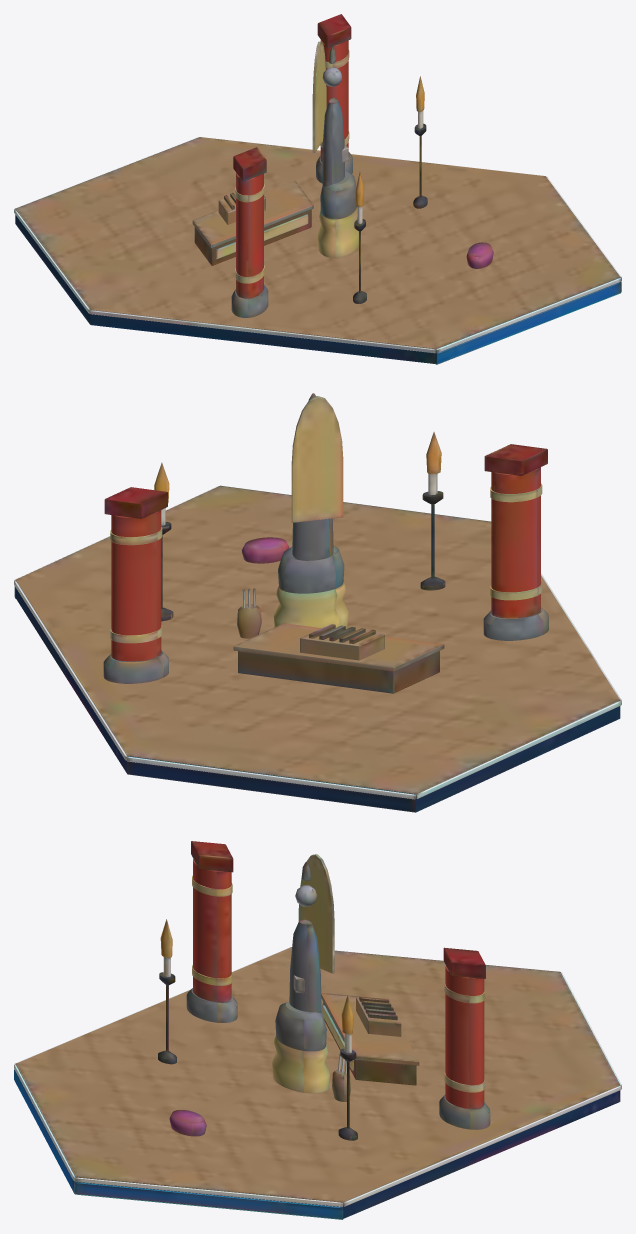
The model's file is field_cm24_01.glb.
The picture shows the model from 3 angles, top to bottom: view 1: azimuth 30°, elevation 25°; view 2: azimuth 150°, elevation 25°; view 3: azimuth 270°, elevation 25°; orthographic projection. The views are drawn at different scales.
Parts seen in each view (by area): view 1: field_cm24_01-runtime-static; view 2: field_cm24_01-runtime-static; view 3: field_cm24_01-runtime-static.
Part boxes in pixels (x1,y1,x2,y2): field_cm24_01-runtime-static: (14, 14, 621, 364); field_cm24_01-runtime-static: (14, 393, 621, 812); field_cm24_01-runtime-static: (14, 841, 621, 1219).
Bounding box in the file's own units: 7.87 × 3.4 × 7.87.
1 material, 1 textured.
